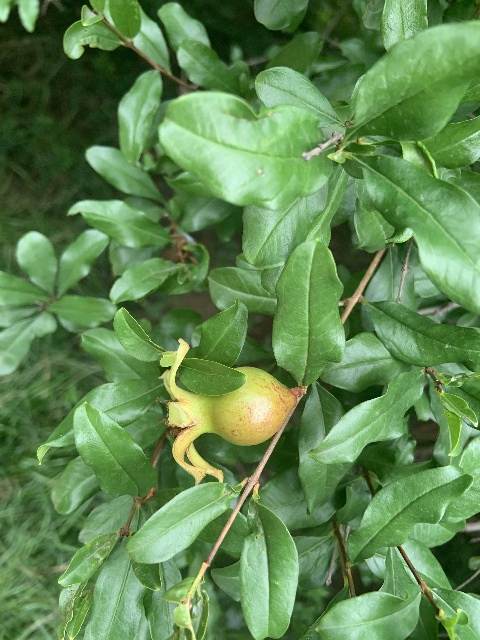early-fruit: (158, 337, 296, 484)
